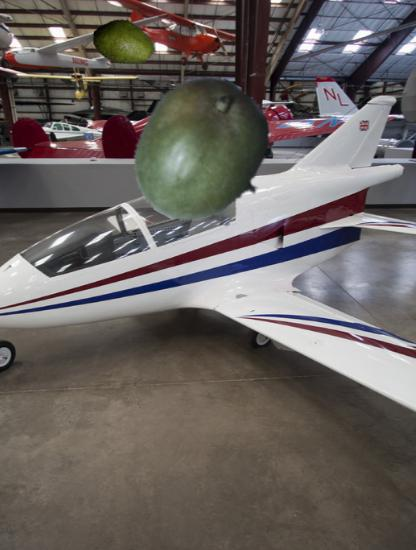Avocado: (93, 9, 156, 72)
Mango: (130, 78, 279, 227)
